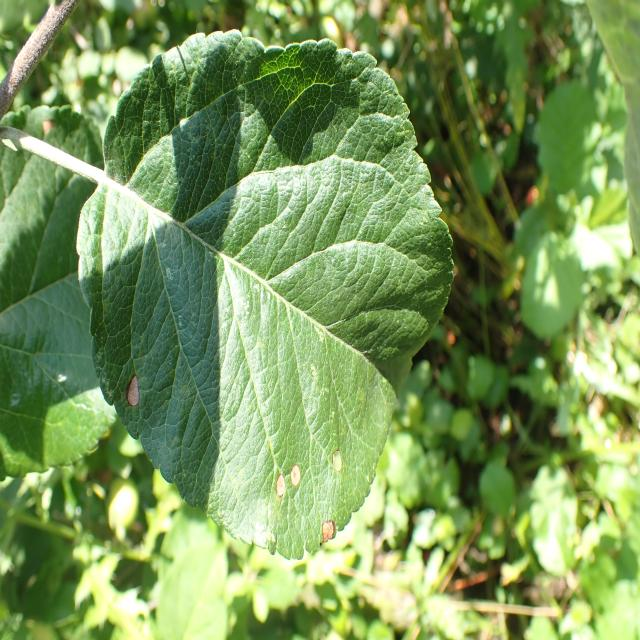Black Rot: (257, 440, 288, 512), (313, 504, 344, 572), (118, 361, 151, 423), (319, 440, 350, 483), (288, 450, 306, 507)
